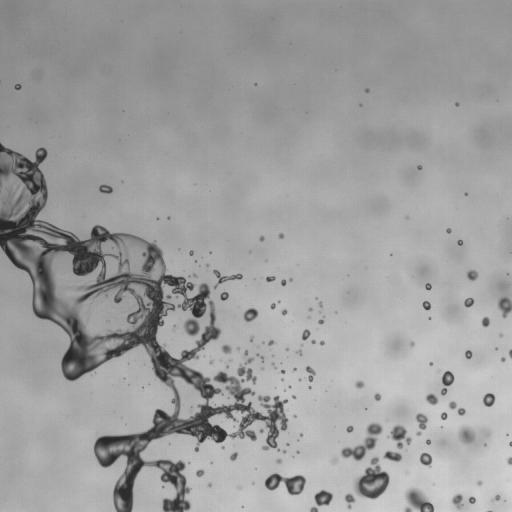droplet: (352, 453, 389, 499), (386, 424, 411, 449), (309, 489, 334, 511), (457, 425, 475, 444), (497, 296, 511, 318), (243, 307, 258, 323), (382, 450, 402, 462), (451, 493, 465, 510), (419, 452, 433, 467), (304, 366, 316, 383), (344, 492, 355, 509), (482, 393, 495, 406), (424, 393, 438, 405), (466, 269, 478, 281), (99, 184, 113, 193), (7, 173, 18, 184), (58, 220, 69, 231), (78, 230, 89, 241), (265, 231, 276, 242), (166, 265, 177, 276), (205, 274, 216, 285), (221, 280, 232, 291), (208, 289, 219, 300), (321, 306, 332, 317), (60, 336, 71, 347), (206, 338, 217, 349), (134, 343, 145, 354), (140, 352, 151, 363), (233, 354, 244, 365), (249, 360, 260, 371), (225, 366, 236, 377), (202, 367, 213, 378), (284, 371, 295, 382), (252, 383, 263, 394), (292, 383, 303, 394), (363, 385, 374, 396), (437, 396, 448, 407), (436, 399, 447, 410), (251, 401, 262, 412), (420, 402, 431, 413), (457, 415, 468, 426), (141, 419, 152, 430), (250, 419, 261, 430), (470, 422, 481, 433), (381, 423, 392, 434), (405, 424, 416, 435), (166, 431, 177, 442), (255, 432, 266, 443), (275, 432, 286, 443), (375, 432, 386, 443), (449, 432, 460, 443), (472, 432, 483, 443), (186, 434, 197, 445), (354, 434, 365, 445), (411, 435, 422, 446), (347, 437, 358, 448), (386, 440, 397, 451), (372, 445, 383, 456), (116, 455, 127, 466), (359, 457, 370, 468), (379, 459, 390, 470), (133, 473, 144, 484), (403, 479, 414, 490), (346, 483, 357, 494), (130, 484, 141, 495), (303, 485, 314, 496), (165, 488, 176, 499), (424, 491, 435, 502), (331, 493, 342, 504), (354, 493, 365, 504), (464, 297, 474, 307), (221, 344, 231, 354), (481, 427, 491, 437), (481, 316, 490, 327), (301, 329, 310, 340), (267, 337, 277, 346), (354, 380, 364, 389), (220, 291, 229, 300), (229, 452, 238, 461), (44, 178, 53, 187), (35, 211, 44, 220), (155, 240, 164, 249), (218, 282, 227, 291), (186, 289, 195, 298), (422, 291, 431, 300), (259, 345, 268, 354), (121, 350, 130, 359), (164, 406, 173, 415), (447, 408, 456, 417), (372, 415, 381, 424), (113, 427, 122, 436), (420, 429, 429, 438), (204, 436, 213, 445), (149, 438, 158, 447), (464, 441, 473, 450), (364, 448, 373, 457), (138, 450, 147, 459), (138, 466, 147, 475), (153, 467, 162, 476), (400, 498, 409, 507), (422, 300, 430, 310), (330, 455, 338, 465), (448, 401, 457, 409), (317, 505, 328, 511), (447, 505, 458, 511), (457, 407, 465, 415), (346, 425, 354, 433), (196, 469, 204, 477), (318, 315, 325, 324), (465, 350, 472, 359), (491, 494, 500, 501), (294, 349, 302, 356), (374, 393, 381, 401), (440, 412, 447, 420), (0, 188, 5, 199), (0, 201, 5, 212), (266, 276, 275, 282), (280, 308, 287, 315), (468, 496, 475, 503), (29, 155, 36, 162), (37, 162, 44, 169), (0, 189, 7, 196), (159, 215, 166, 222), (107, 226, 114, 233), (161, 252, 168, 259), (204, 254, 211, 261), (2, 255, 9, 262), (191, 265, 198, 272), (171, 270, 178, 277), (273, 278, 280, 285), (491, 299, 498, 306), (311, 302, 318, 309), (275, 303, 282, 310), (495, 308, 502, 315), (214, 311, 221, 318), (42, 318, 49, 325), (213, 320, 220, 327), (287, 349, 294, 356), (222, 352, 229, 359), (110, 355, 117, 362), (253, 356, 260, 363), (264, 356, 271, 363), (148, 369, 155, 376), (81, 372, 88, 379), (153, 376, 160, 383), (279, 381, 286, 388), (239, 382, 246, 389), (433, 390, 440, 397), (167, 391, 174, 398), (243, 393, 250, 400), (267, 398, 274, 405), (261, 409, 268, 416), (263, 427, 270, 434), (243, 435, 250, 442), (89, 436, 96, 443), (485, 436, 492, 443), (348, 442, 355, 449), (424, 446, 431, 453), (334, 449, 341, 456), (276, 451, 283, 458), (337, 454, 344, 461), (347, 454, 354, 461), (171, 456, 178, 463), (92, 459, 99, 466), (358, 469, 365, 476), (286, 471, 293, 478), (387, 473, 394, 480), (278, 480, 285, 487), (165, 481, 172, 488), (107, 485, 114, 492), (384, 485, 391, 492), (449, 490, 456, 497), (378, 492, 385, 499), (183, 493, 190, 500), (364, 496, 371, 503), (427, 496, 434, 503), (461, 496, 468, 503), (309, 499, 316, 506), (448, 502, 455, 509), (425, 283, 431, 291), (506, 447, 511, 456), (155, 506, 164, 511), (410, 506, 419, 511), (14, 84, 21, 90), (278, 232, 284, 239), (259, 235, 265, 242), (172, 324, 178, 331), (409, 341, 415, 347), (476, 480, 482, 486), (0, 247, 4, 256), (281, 279, 286, 286), (318, 301, 323, 308), (249, 335, 254, 342), (278, 369, 285, 374), (425, 438, 430, 445), (275, 458, 282, 463), (457, 239, 462, 245), (311, 339, 317, 344), (319, 340, 325, 345), (500, 356, 505, 362), (209, 359, 214, 365), (225, 363, 230, 369), (291, 394, 296, 400), (236, 485, 242, 490), (507, 293, 511, 300), (507, 310, 511, 317), (130, 507, 137, 511), (417, 165, 422, 170), (446, 228, 451, 233), (498, 332, 503, 337), (292, 367, 297, 372), (363, 83, 368, 88), (368, 88, 373, 93), (2, 142, 7, 147), (16, 177, 21, 182), (105, 180, 110, 185), (46, 192, 51, 197), (103, 192, 108, 197), (87, 226, 92, 231), (122, 228, 127, 233), (276, 228, 281, 233), (127, 229, 132, 234), (130, 230, 135, 235), (282, 231, 287, 236), (137, 232, 142, 237), (263, 233, 268, 238), (273, 233, 278, 238), (254, 234, 259, 239), (147, 238, 152, 243), (278, 238, 283, 243), (257, 240, 262, 245), (191, 254, 196, 259), (200, 264, 205, 269), (208, 265, 213, 270), (469, 265, 474, 270), (21, 269, 26, 274), (164, 270, 169, 275), (219, 271, 224, 276), (266, 271, 271, 276), (462, 272, 467, 277), (182, 273, 187, 278), (464, 276, 469, 281), (185, 277, 190, 282), (233, 278, 238, 283), (285, 280, 290, 285), (208, 286, 213, 291), (28, 287, 33, 292), (27, 296, 32, 301), (459, 301, 464, 306), (246, 304, 251, 309), (252, 304, 257, 309), (429, 304, 434, 309), (469, 304, 474, 309), (306, 310, 311, 315), (254, 315, 259, 320), (240, 318, 245, 323), (488, 319, 493, 324), (477, 320, 482, 325), (318, 323, 323, 328), (56, 325, 61, 330), (481, 325, 486, 330), (308, 327, 313, 332), (297, 332, 302, 337), (271, 335, 276, 340), (306, 336, 311, 341), (264, 337, 269, 342), (315, 337, 320, 342), (314, 341, 319, 346), (270, 343, 275, 348), (294, 345, 299, 350), (230, 346, 235, 351), (239, 348, 244, 353), (195, 350, 200, 355), (282, 350, 287, 355), (247, 352, 252, 357), (460, 352, 465, 357), (504, 353, 509, 358), (271, 356, 276, 361), (148, 362, 153, 367), (310, 364, 315, 369), (94, 366, 99, 371), (221, 367, 226, 372), (89, 369, 94, 374), (450, 369, 455, 374), (250, 371, 255, 376), (304, 371, 309, 376), (438, 371, 443, 376), (278, 372, 283, 377), (312, 374, 317, 379), (236, 375, 241, 380), (358, 376, 363, 381), (437, 377, 442, 382), (64, 378, 69, 383), (255, 378, 260, 383), (305, 380, 310, 385), (309, 381, 314, 386), (440, 383, 445, 388), (445, 384, 450, 389), (359, 386, 364, 391), (487, 388, 492, 393), (426, 389, 431, 394), (378, 390, 383, 395), (260, 391, 265, 396), (480, 391, 485, 396), (269, 393, 274, 398), (493, 393, 498, 398), (369, 394, 374, 399), (379, 395, 384, 400), (278, 396, 283, 401), (287, 396, 292, 401), (493, 398, 498, 403), (376, 399, 381, 404), (479, 401, 484, 406), (491, 402, 496, 407), (282, 403, 287, 408), (455, 403, 460, 408), (485, 405, 490, 410), (452, 407, 457, 412), (150, 409, 155, 414), (436, 411, 441, 416), (463, 411, 468, 416), (411, 412, 416, 417), (458, 414, 463, 419), (285, 420, 290, 425), (414, 420, 419, 425), (424, 421, 429, 426), (343, 422, 348, 427), (415, 426, 420, 431), (278, 429, 283, 434), (254, 431, 259, 436), (224, 435, 229, 440), (274, 436, 279, 441), (400, 438, 405, 443), (409, 440, 414, 445), (217, 441, 222, 446), (284, 445, 289, 450), (268, 446, 273, 451), (228, 449, 233, 454), (90, 452, 95, 457), (415, 453, 420, 458), (430, 454, 435, 459), (154, 455, 159, 460), (161, 455, 166, 460), (235, 455, 240, 460), (182, 458, 187, 463), (502, 458, 507, 463), (430, 460, 435, 465), (506, 463, 511, 468), (422, 464, 427, 469), (195, 465, 200, 470), (265, 472, 270, 477), (200, 474, 205, 479), (475, 475, 480, 480), (260, 479, 265, 484), (159, 480, 164, 485), (303, 482, 308, 487), (325, 487, 330, 492), (314, 488, 319, 493), (342, 490, 347, 495), (291, 493, 296, 498), (490, 493, 495, 498), (499, 494, 504, 499), (328, 499, 333, 504), (349, 501, 354, 506), (364, 88, 369, 92), (454, 102, 459, 106), (404, 215, 409, 219), (189, 250, 193, 255), (205, 263, 209, 268), (308, 307, 313, 311), (236, 346, 240, 351), (285, 346, 289, 351), (228, 358, 233, 362), (429, 361, 433, 366), (207, 482, 211, 487), (507, 436, 511, 441), (166, 216, 170, 220), (307, 315, 311, 319), (293, 414, 297, 418), (299, 433, 303, 437), (221, 445, 225, 449), (289, 277, 292, 282), (508, 441, 511, 446), (508, 344, 511, 349), (111, 508, 116, 511), (239, 508, 244, 511), (305, 508, 310, 511), (345, 508, 350, 511), (432, 508, 437, 511), (254, 82, 257, 86), (318, 310, 321, 314), (261, 341, 264, 345), (494, 347, 498, 350), (260, 367, 264, 370), (287, 385, 291, 388), (308, 385, 311, 389), (283, 388, 286, 392), (384, 418, 388, 421), (285, 443, 289, 446), (251, 481, 254, 485), (359, 103, 362, 106), (464, 192, 467, 195), (156, 217, 159, 220), (209, 251, 212, 254), (248, 250, 251, 253), (194, 259, 197, 262), (264, 259, 267, 262), (315, 296, 318, 299), (334, 311, 337, 314), (428, 316, 431, 319), (300, 343, 303, 346), (271, 354, 274, 357), (281, 378, 284, 381), (298, 378, 301, 381), (440, 425, 443, 428), (483, 443, 486, 446), (296, 450, 299, 453), (254, 467, 257, 470), (161, 485, 164, 488), (241, 505, 244, 508), (253, 79, 256, 82), (16, 80, 19, 83), (256, 81, 259, 84), (251, 84, 254, 87), (20, 86, 23, 89), (15, 89, 18, 92), (363, 91, 366, 94), (456, 99, 459, 102), (356, 104, 359, 107), (452, 104, 455, 107), (456, 105, 459, 108), (39, 144, 42, 147), (36, 145, 39, 148), (416, 162, 419, 165), (419, 162, 422, 165), (414, 166, 417, 169), (418, 169, 421, 172), (96, 185, 99, 188), (466, 190, 469, 193), (461, 193, 464, 196), (464, 195, 467, 198), (165, 213, 168, 216), (153, 216, 156, 219), (169, 216, 172, 219), (156, 219, 159, 222), (166, 219, 169, 222), (48, 220, 51, 223), (54, 223, 57, 226), (443, 227, 446, 230), (450, 228, 453, 231), (445, 232, 448, 235), (458, 236, 461, 239), (262, 239, 265, 242), (462, 240, 465, 243), (454, 241, 457, 244), (456, 244, 459, 247), (207, 248, 210, 251), (186, 249, 189, 252), (205, 251, 208, 254), (211, 251, 214, 254), (391, 251, 394, 254), (186, 252, 189, 255), (386, 252, 389, 255), (189, 255, 192, 258), (389, 255, 392, 258), (196, 258, 199, 261), (195, 262, 198, 265), (506, 269, 509, 272), (238, 270, 241, 273), (233, 271, 236, 274), (195, 272, 198, 275), (241, 272, 244, 275), (503, 273, 506, 276), (263, 275, 266, 278), (241, 276, 244, 279), (292, 278, 295, 281), (268, 280, 271, 283), (430, 283, 433, 286), (422, 286, 425, 289), (430, 287, 433, 290), (224, 289, 227, 292), (425, 289, 428, 292), (227, 291, 230, 294), (315, 293, 318, 296), (469, 294, 472, 297), (464, 295, 467, 298), (311, 296, 314, 299), (223, 299, 226, 302), (315, 299, 318, 302), (420, 299, 423, 302), (427, 299, 430, 302), (321, 302, 324, 305), (419, 302, 422, 305), (267, 305, 270, 308), (285, 307, 288, 310), (318, 307, 321, 310), (421, 307, 424, 310), (425, 309, 428, 312), (286, 310, 289, 313), (279, 313, 282, 316), (284, 313, 287, 316), (428, 319, 431, 322), (247, 336, 250, 339), (252, 337, 255, 340), (411, 338, 414, 341), (323, 339, 326, 342), (321, 344, 324, 347), (493, 344, 496, 347), (282, 345, 285, 348), (412, 345, 415, 348), (465, 347, 468, 350), (469, 348, 472, 351), (493, 349, 496, 352), (301, 350, 304, 353), (258, 352, 261, 355), (471, 352, 474, 355), (470, 355, 473, 358), (210, 356, 213, 359), (497, 357, 500, 360), (263, 358, 266, 361), (466, 358, 469, 361), (426, 360, 429, 363), (260, 362, 263, 365), (432, 362, 435, 365), (426, 363, 429, 366), (294, 364, 297, 367), (303, 364, 306, 367), (280, 366, 283, 369), (277, 368, 280, 371), (284, 370, 287, 373), (293, 370, 296, 373), (277, 378, 280, 381), (295, 379, 298, 382), (140, 382, 143, 385), (288, 382, 291, 385), (143, 385, 146, 388), (285, 386, 288, 389), (305, 386, 308, 389), (139, 387, 142, 390), (310, 387, 313, 390), (293, 392, 296, 395), (364, 404, 367, 407), (366, 408, 369, 411), (295, 412, 298, 415), (438, 416, 441, 419), (442, 419, 445, 422), (352, 425, 355, 428), (437, 426, 440, 429), (441, 427, 444, 430), (343, 428, 346, 431), (349, 431, 352, 434), (297, 435, 300, 438), (301, 435, 304, 438), (287, 440, 290, 443), (430, 440, 433, 443), (506, 441, 509, 444), (480, 442, 483, 445), (486, 442, 489, 445), (424, 443, 427, 446), (428, 443, 431, 446), (507, 445, 510, 448), (483, 446, 486, 449), (298, 448, 301, 451), (263, 449, 266, 452), (195, 451, 198, 454), (293, 451, 296, 454), (427, 451, 430, 454), (210, 463, 213, 466), (193, 470, 196, 473), (475, 484, 478, 487), (479, 484, 482, 487), (210, 485, 213, 488), (206, 486, 209, 489), (474, 496, 477, 499), (493, 499, 496, 502), (474, 500, 477, 503), (468, 502, 471, 505), (238, 503, 241, 506), (243, 504, 246, 507), (488, 507, 491, 510), (121, 180, 123, 183), (389, 253, 392, 255), (198, 264, 201, 266), (506, 273, 509, 275), (142, 386, 144, 389), (233, 424, 235, 427), (506, 433, 508, 436), (296, 439, 299, 441), (168, 442, 170, 445), (210, 461, 213, 463), (509, 272, 511, 275), (178, 248, 180, 250), (253, 278, 255, 280), (203, 355, 205, 357), (280, 362, 282, 364), (123, 377, 125, 379), (365, 408, 367, 410), (120, 416, 122, 418), (274, 387, 276, 388), (510, 252, 511, 253)
ligament: (340, 422, 383, 461), (264, 472, 306, 496), (440, 370, 454, 395), (415, 412, 428, 436), (270, 300, 280, 310), (255, 353, 264, 362), (187, 272, 198, 278), (270, 361, 277, 369), (508, 349, 511, 360), (291, 455, 294, 458), (486, 510, 493, 511), (0, 80, 1, 84)
